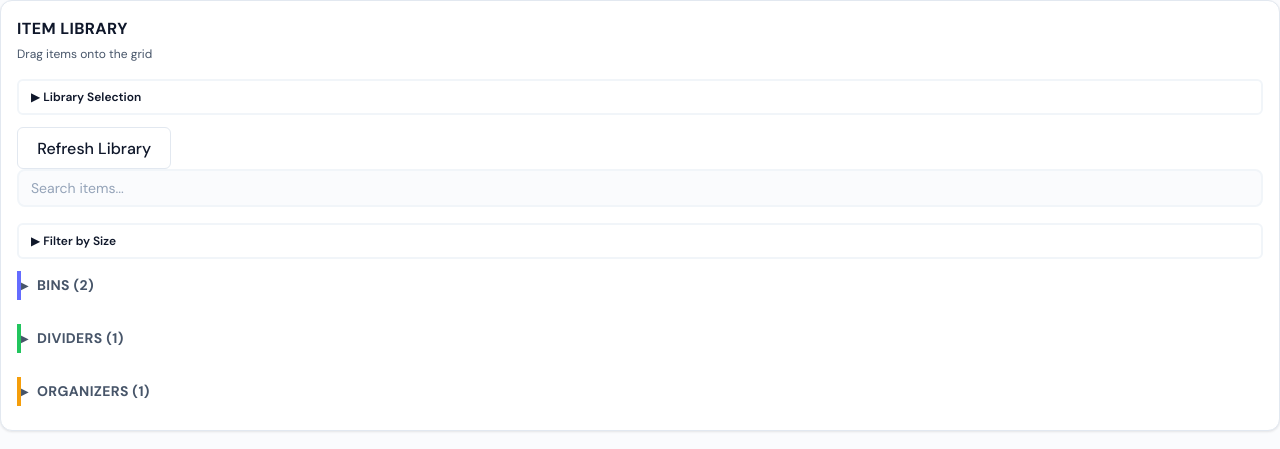
Scenario: ItemLibrary › should show no results message when search has no matches
This screenshot has width=1280, height=449.
Type "nonexistent" into the field with placeholder "Search items..." at coordinates (640, 188), box [17, 169, 1263, 207]
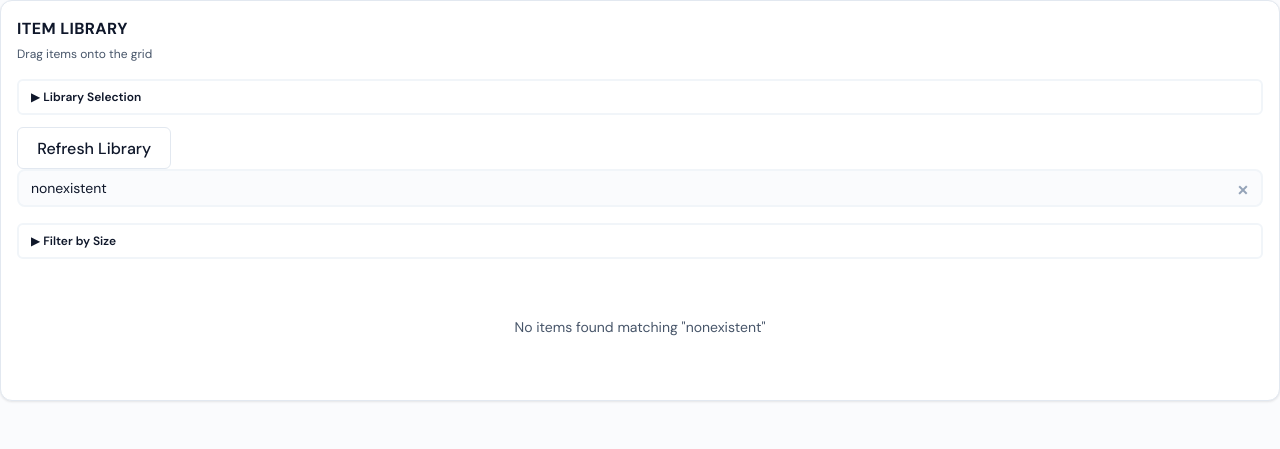
Now the text "No items found matching \"nonexistent\"" is shown, box [514, 318, 766, 336]
